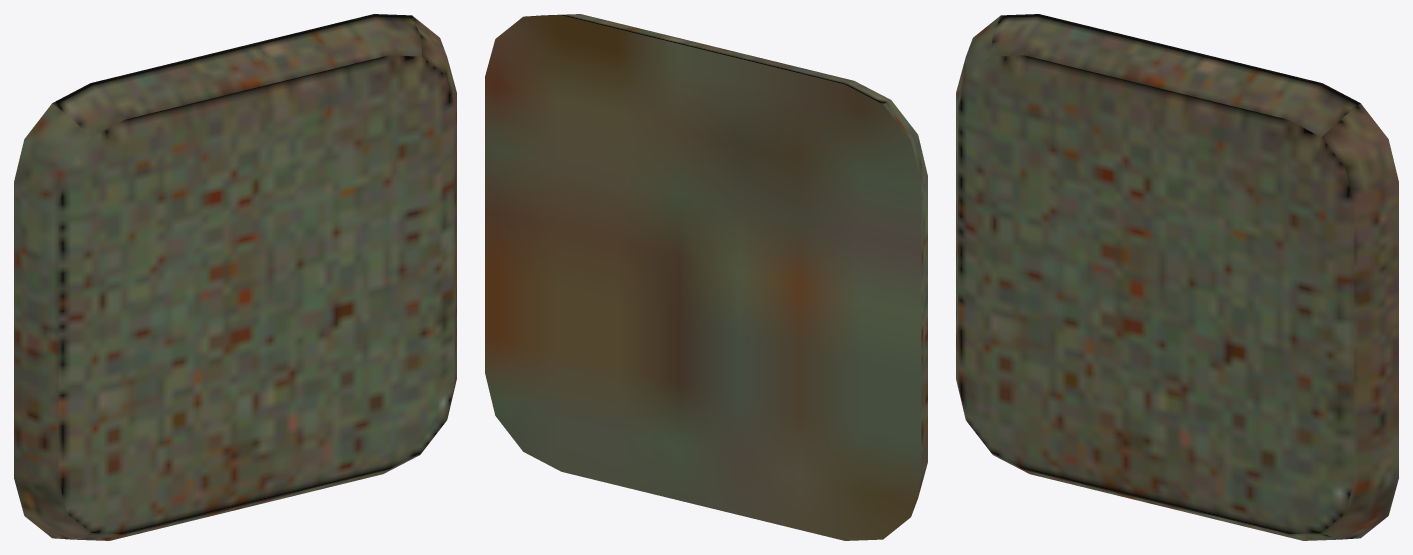
Rendered from Pipe_Set_3_16.glb.
3 views of the same model, side by side, from view 1: azimuth 30°, elevation 25°; view 2: azimuth 150°, elevation 25°; view 3: azimuth 330°, elevation 25° (orthographic).
Visible parts, largest first — view 1: Pipe_Set_3_16; view 2: Pipe_Set_3_16; view 3: Pipe_Set_3_16.
Boxes of the visible parts, box(x1,y1,x2,y2) form: Pipe_Set_3_16: box(14, 14, 456, 540); Pipe_Set_3_16: box(485, 14, 927, 540); Pipe_Set_3_16: box(956, 14, 1398, 540).
Bounding box in the file's own units: 0.2026 × 0.2026 × 0.0228.
1 material, 1 textured.
